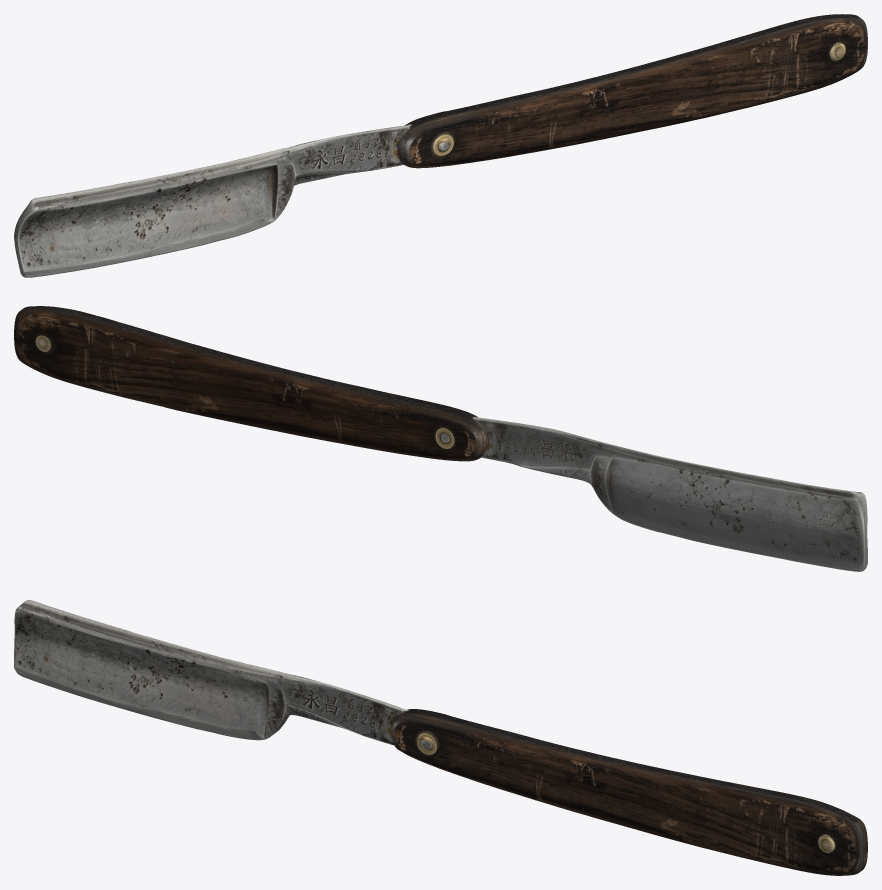
Rendered from razor.glb.
3 views of the same model, one above another, from view 1: azimuth 30°, elevation 25°; view 2: azimuth 150°, elevation 25°; view 3: azimuth 330°, elevation 25° (orthographic).
Visible parts, largest first — view 1: handle, blade; view 2: handle, blade; view 3: handle, blade.
Part boxes in pixels (bbox=[...]): handle: bbox=[391, 14, 867, 168]; blade: bbox=[14, 127, 392, 277]; handle: bbox=[14, 306, 494, 461]; blade: bbox=[492, 419, 867, 571]; handle: bbox=[386, 703, 867, 875]; blade: bbox=[14, 600, 388, 743].
Size of the model in its own units: 0.235 by 0.0229 by 0.00747.
1 material, 1 textured.
